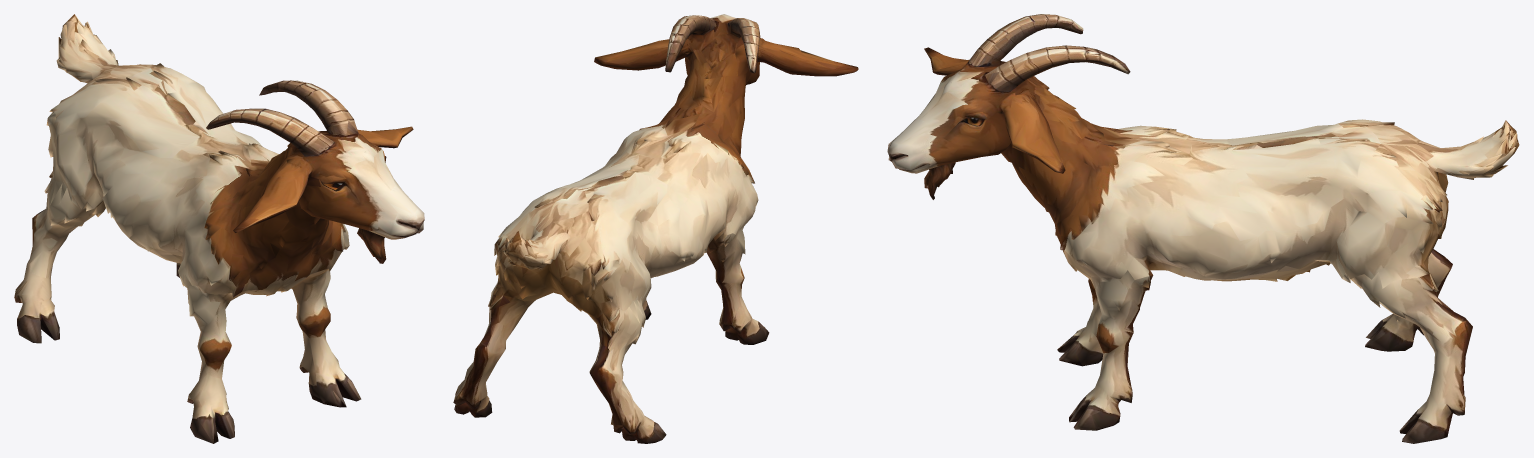
File: goat.glb
3 renders of one model, left to right at view 1: azimuth 30°, elevation 25°; view 2: azimuth 150°, elevation 25°; view 3: azimuth 270°, elevation 25°, orthographic. The views are drawn at different scales.
Parts seen in each view (by area): view 1: GoatBody, GoatLeg_Front_L, GoatLeg_Rear_L, GoatLeg_Front_R; view 2: GoatBody, GoatLeg_Rear_L, GoatLeg_Rear_R, GoatLeg_Front_L; view 3: GoatBody, GoatLeg_Rear_R, GoatLeg_Front_R, GoatLeg_Rear_L, GoatLeg_Front_L.
Boxes of the visible parts, x1,y1,x2,y2 form: GoatBody: (46, 14, 424, 297); GoatLeg_Front_L: (160, 254, 287, 443); GoatLeg_Rear_L: (14, 176, 165, 343); GoatLeg_Front_R: (281, 268, 361, 407); GoatBody: (493, 14, 858, 322); GoatLeg_Rear_L: (584, 264, 690, 443); GoatLeg_Rear_R: (453, 286, 549, 417); GoatLeg_Front_L: (706, 219, 769, 344); GoatBody: (887, 14, 1519, 288); GoatLeg_Rear_R: (1196, 261, 1472, 443); GoatLeg_Front_R: (1069, 261, 1205, 430); GoatLeg_Rear_L: (1365, 249, 1452, 351); GoatLeg_Front_L: (1057, 279, 1103, 366).
Bounding box in the file's own units: 0.6 × 0.8 × 1.3.
1 material, 1 textured.
